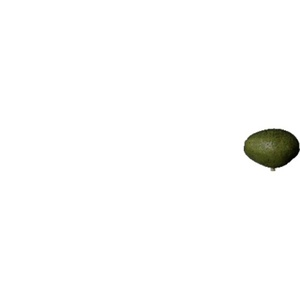abacate: (242, 122, 300, 166)
